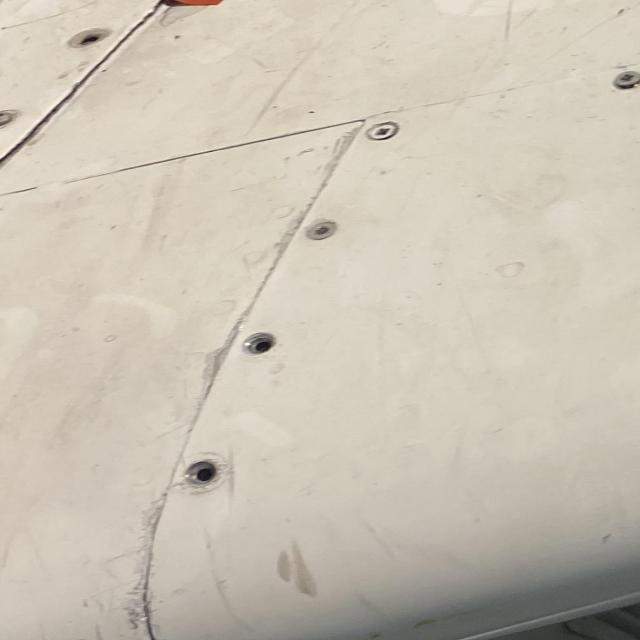Missing-head: (178, 459, 218, 490), (65, 26, 109, 48), (237, 333, 272, 355)
Paint-off: (157, 1, 217, 28)
